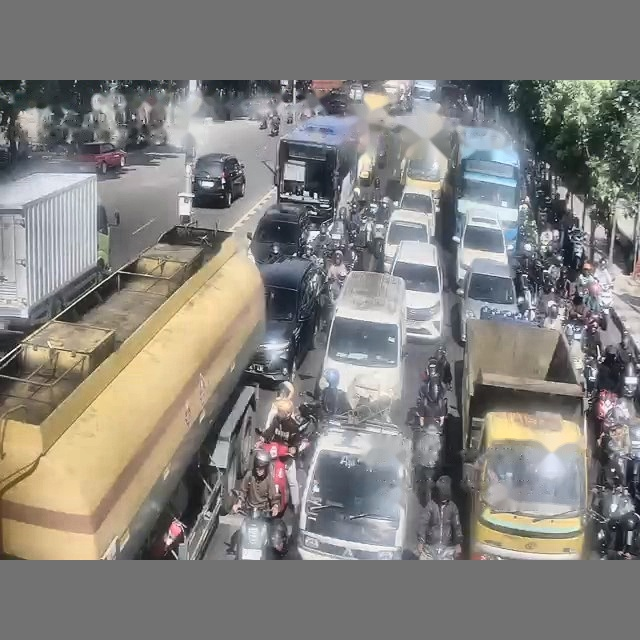Bis: (276, 115, 367, 223), (448, 128, 521, 247)
Mobil: (298, 419, 417, 559), (246, 256, 324, 382), (456, 258, 521, 343), (391, 241, 443, 339), (452, 212, 508, 283), (247, 203, 309, 262), (383, 209, 432, 272), (192, 153, 245, 206), (397, 187, 437, 233), (73, 142, 126, 174), (413, 80, 436, 101)
Motor: (269, 115, 279, 136)
Truk: (0, 226, 265, 559), (461, 319, 589, 559), (0, 173, 118, 350)
